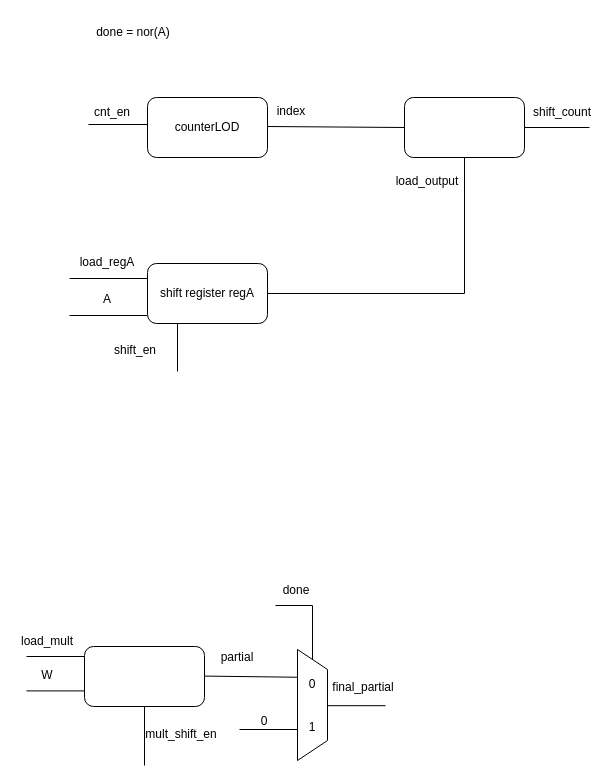
The diagram is 609 pixels wide and 784 high, and some of its shapes have lost their labels. The shapes that lost their labels are listed below. From the top down, each one's centre as x and y in pixels, then its label:
At [464,127]: "register output".
At [144,676]: "mult shift register".
